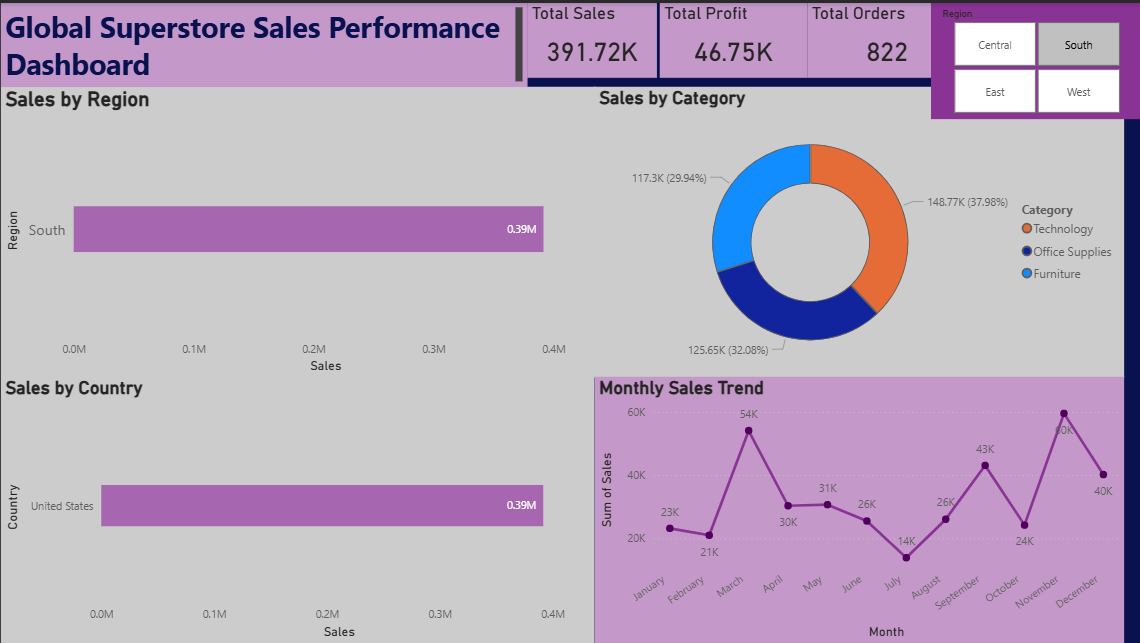

Layout of this report page (visuals, bound fields, positions):
{"tool":"powerbi","page":{"name":"Page 1","canvas":[1280,720],"ordinal":0},"visuals":[{"type":"barChart","title":" Sales by Region","fields":{"Category":["samplesuperstore.Region"],"Y":["Sum(samplesuperstore.Sales)"]},"box":[0,94.1,667.1,326.4],"z":0},{"type":"donutChart","title":"Sales by Category","fields":{"Category":["samplesuperstore.Category"],"Y":["Sum(samplesuperstore.Sales)"]},"box":[667.1,94.1,594.4,326.4],"z":1000},{"type":"clusteredBarChart","title":" Sales by Country","fields":{"Category":["samplesuperstore.Country/Region"],"Y":["Sum(samplesuperstore.Sales)"]},"box":[0,419.6,666.7,298.9],"z":2000},{"type":"card","title":"Total Sales","fields":{"Values":["Sum(samplesuperstore.Sales)"]},"box":[590.9,0,146,84.2],"z":3000},{"type":"card","title":"Total Profit","fields":{"Values":["Sum(samplesuperstore.Profit)"]},"box":[739.6,0,165.6,84.2],"z":4000},{"type":"card","title":"Total Orders","fields":{"Values":["Count(samplesuperstore.Order ID)"]},"box":[905.3,0,179.6,84.2],"z":5000},{"type":"lineChart","title":"Monthly Sales Trend","fields":{"Category":["samplesuperstore.Order Date.Variation.Date Hierarchy.Month"],"Y":["Sum(samplesuperstore.Sales)"]},"box":[667,420,594,299],"z":6000},{"type":"textbox","box":[0,0,590.9,94],"z":7000},{"type":"slicer","fields":{"Values":["samplesuperstore.Region"]},"box":[1072.1,0,208.2,136.5],"z":8000}]}

Visuals, with their boxes in screenshot pixels (x1, y1, x2, y2), scaled from the page's 1280x720 canvas onto the 1140x643 screenshot:
" Sales by Region" barChart: left=0, top=84, right=594, bottom=376
"Sales by Category" donutChart: left=594, top=84, right=1124, bottom=376
" Sales by Country" clusteredBarChart: left=0, top=375, right=594, bottom=642
"Total Sales" card: left=526, top=0, right=656, bottom=75
"Total Profit" card: left=659, top=0, right=806, bottom=75
"Total Orders" card: left=806, top=0, right=966, bottom=75
"Monthly Sales Trend" lineChart: left=594, top=375, right=1123, bottom=642
textbox: left=0, top=0, right=526, bottom=84
slicer - samplesuperstore.Region: left=955, top=0, right=1139, bottom=122
